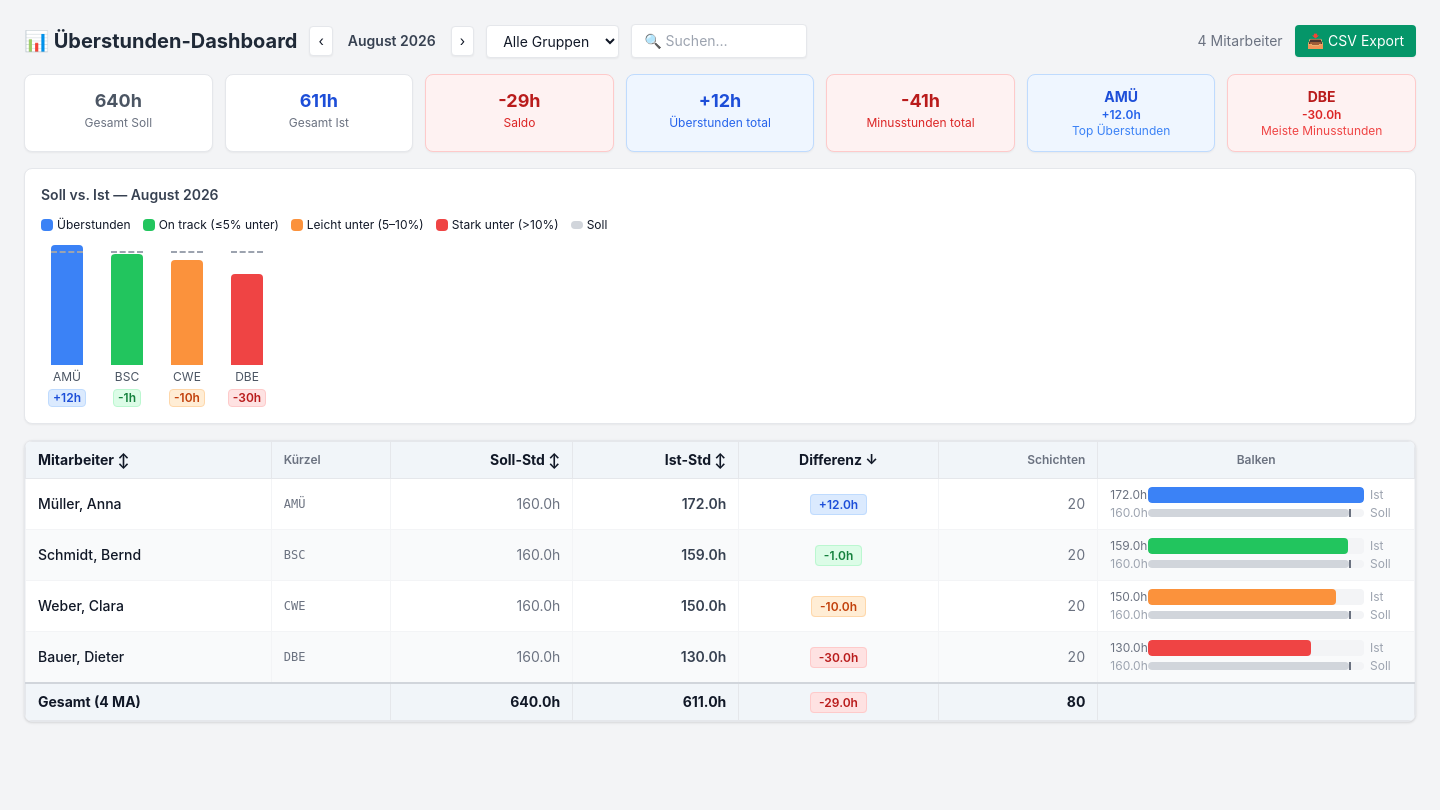
OvertimeDashboard › shows "Keine Mitarbeiter gefunden" when search yields no results
Check: the text "Müller, Anna" is shown, box top-left (26, 478), bottom-right (271, 530)
Type "xyz_not_found_xyz" into the field with placeholder "🔍 Suchen…" at (719, 41), box top-left (631, 24), bottom-right (807, 58)
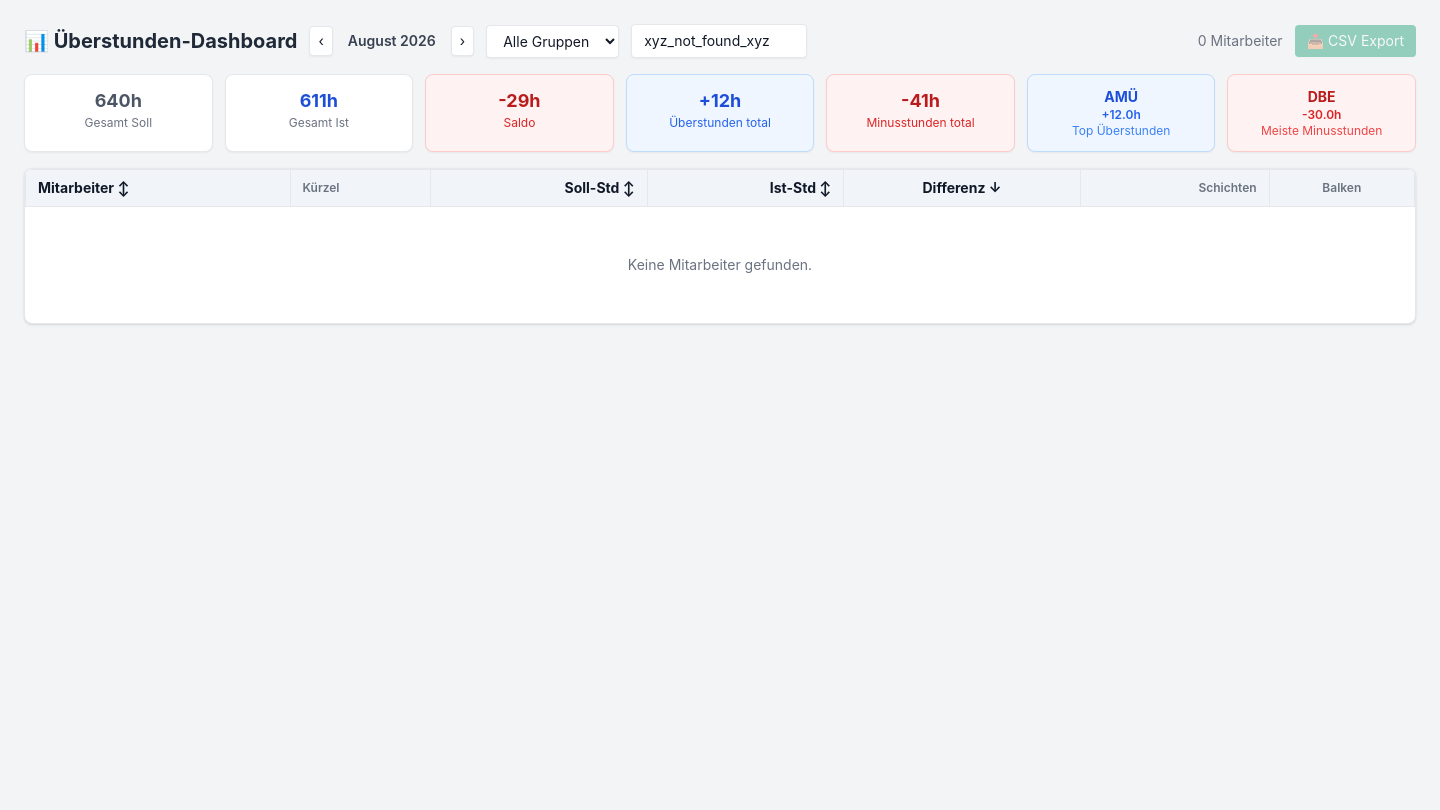
Check: the text "Keine Mitarbeiter gefunden." is shown, box top-left (26, 206), bottom-right (1414, 323)
